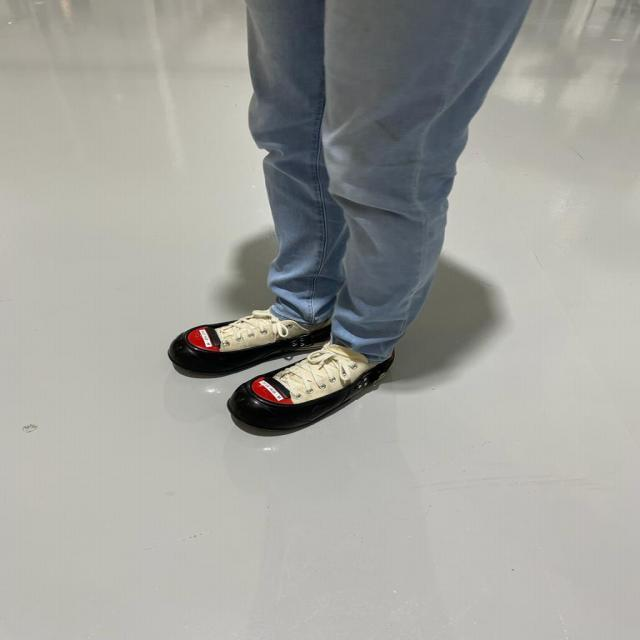shoes: (225, 346, 394, 438), (157, 304, 320, 378)
